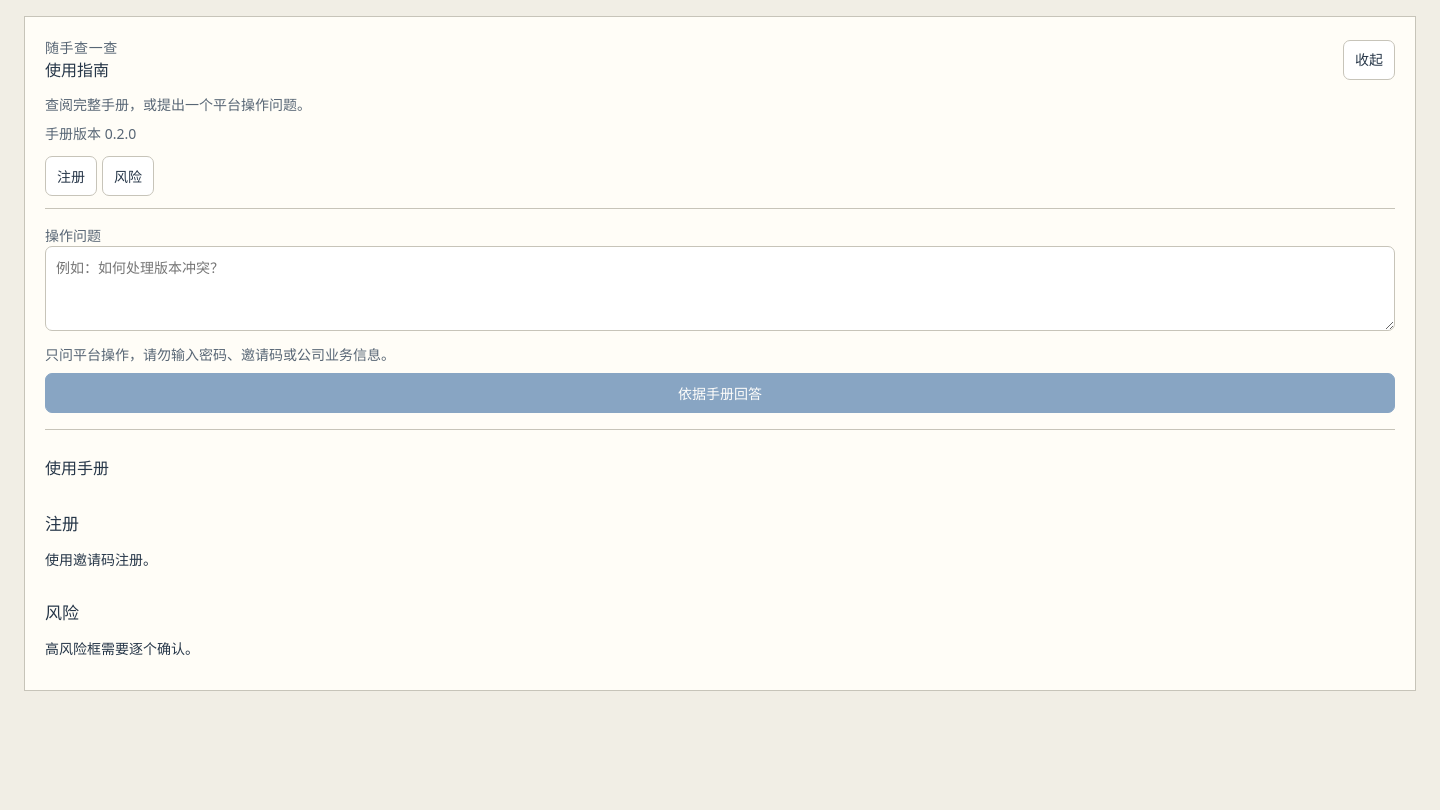
Test case: keeps the manual readable when the question API fails
This screenshot has width=1440, height=810.
Expected: the text "使用邀请码注册。" is shown, [45,550,157,569]
Type "如何注册？" into the text box labelled "操作问题". click: (720, 288)
box: [45,246,1395,331]
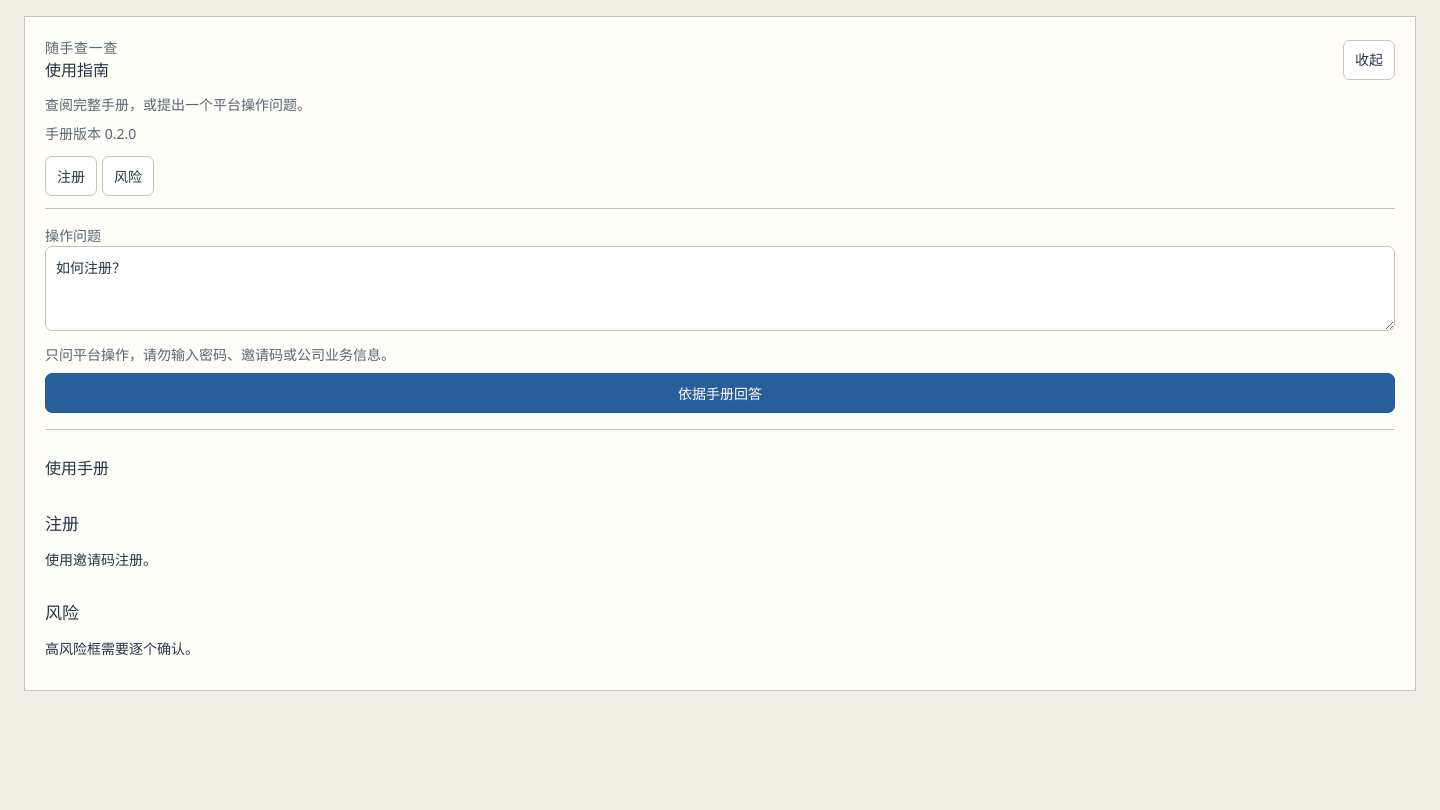
Click the button "依据手册回答". click: (720, 393)
box: [45,373,1395,413]
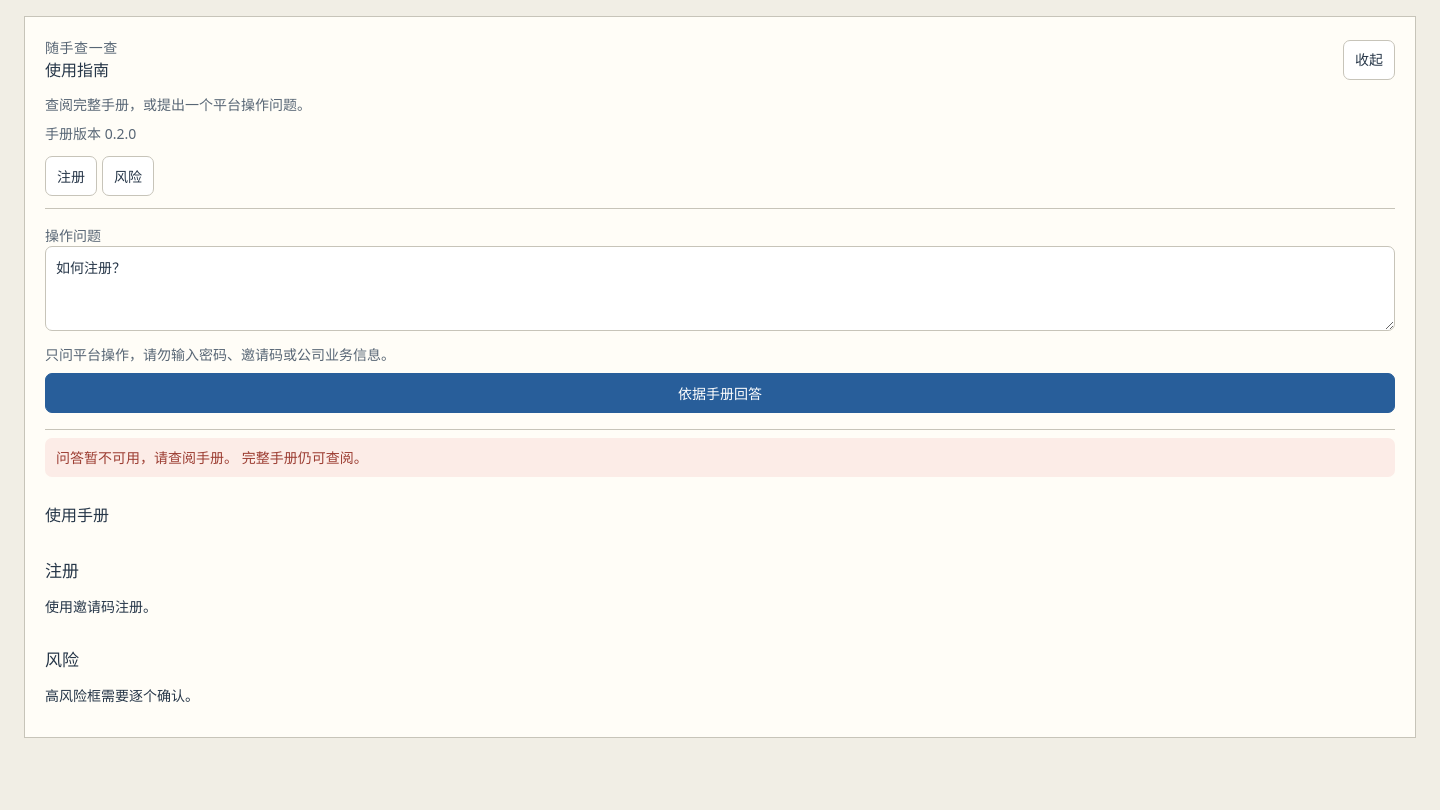
Expected: the text "高风险框需要逐个确认。" is shown, [45,686,199,705]
Result: the message shows "问答暂不可用" at [56,448,238,467]
